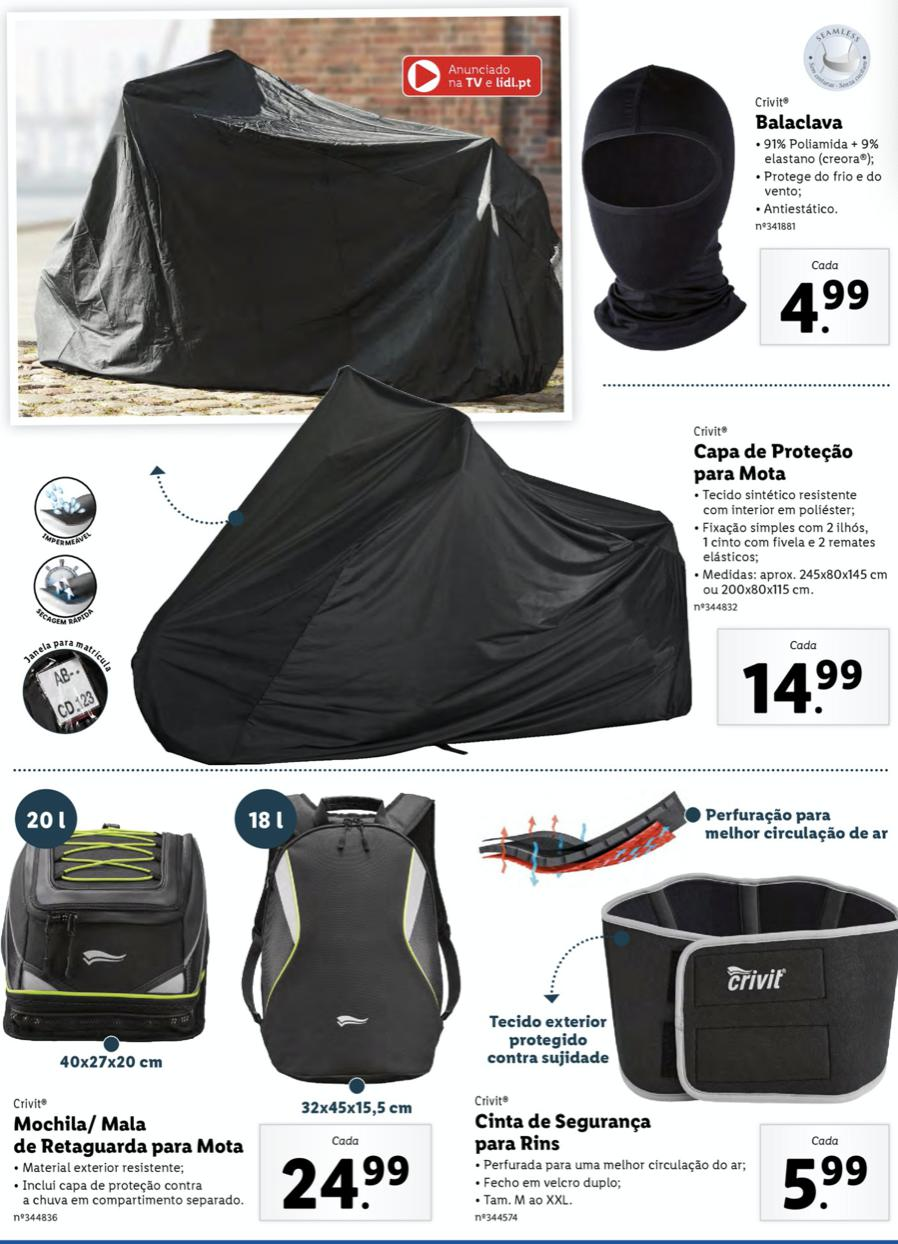name: (10, 1110, 249, 1160), (470, 1110, 658, 1158), (690, 440, 860, 486), (750, 107, 847, 135)
price: (277, 1147, 413, 1218), (737, 653, 869, 724), (772, 272, 883, 340), (775, 1147, 877, 1213)
product: (15, 378, 893, 763), (1, 784, 460, 1232), (460, 784, 897, 1240), (573, 15, 887, 383)
